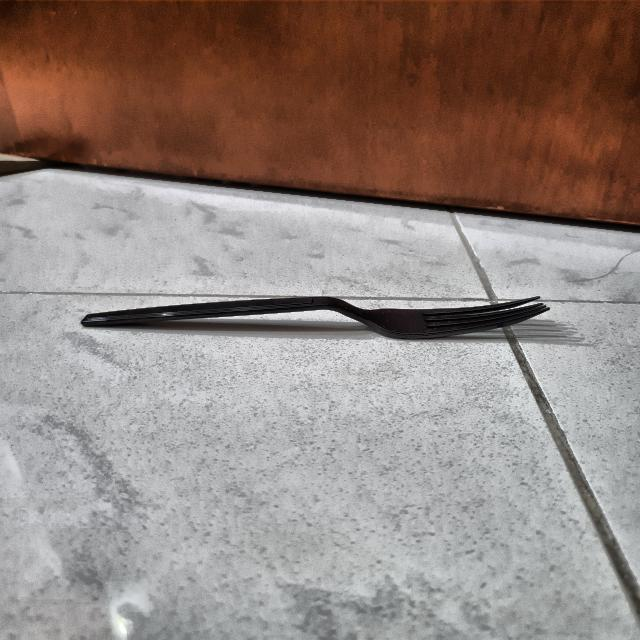plastic utensil: (87, 289, 558, 347)
